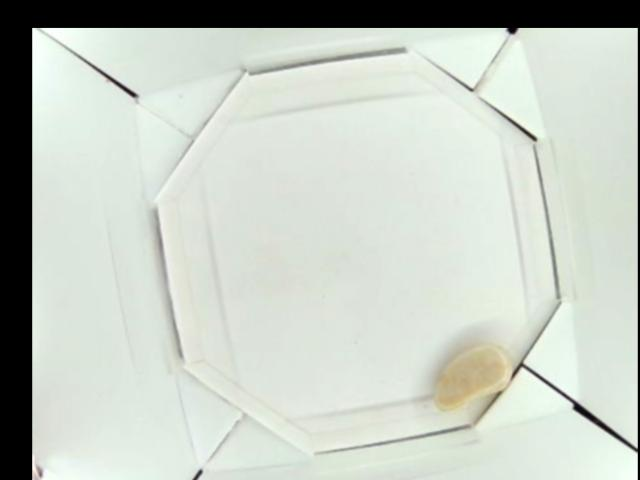Pebble: (431, 339, 512, 413)
